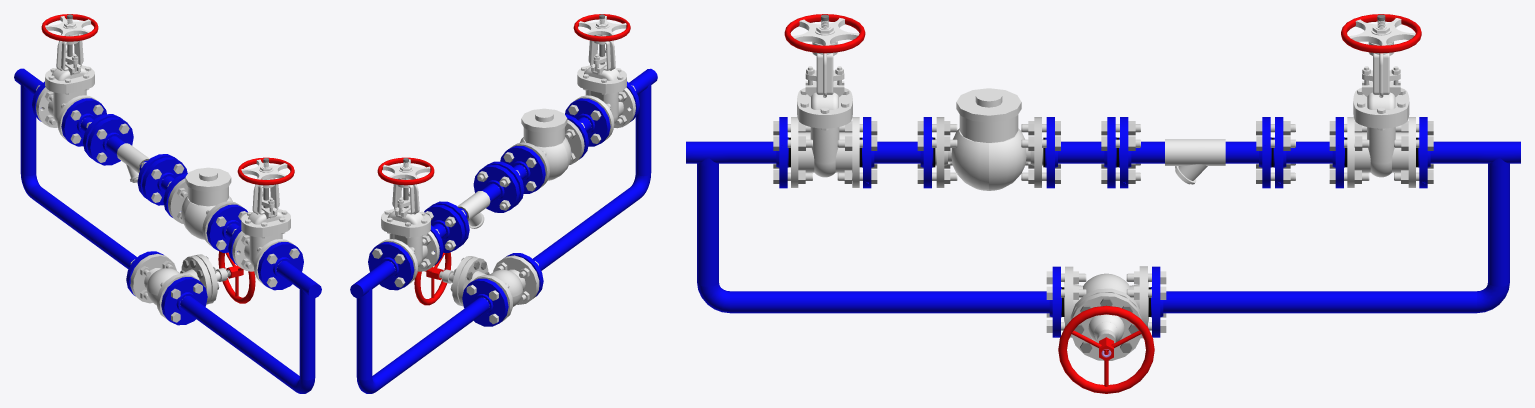
File: steam_condensate_trap__trampa_de_condensado.glb
3 renders of one model, left to right at view 1: azimuth 30°, elevation 25°; view 2: azimuth 150°, elevation 25°; view 3: azimuth 270°, elevation 25°, orthographic. The views are drawn at different scales.
Parts seen in each view (by area): view 1: Material2 (×5), Material3 (×2); view 2: Material2 (×6), Material3 (×2); view 3: Material2 (×5), Material3 (×2).
Part boxes in pixels (left/top/right/bottom): Material2 (×5): left=14, top=14, right=321, bottom=393; Material3 (×2): left=36, top=16, right=299, bottom=322; Material2 (×6): left=350, top=14, right=657, bottom=393; Material3 (×2): left=372, top=16, right=635, bottom=324; Material2 (×5): left=686, top=14, right=1520, bottom=393; Material3 (×2): left=773, top=18, right=1433, bottom=332.
Size of the model in its own units: 9.63 by 21.64 by 49.79.
